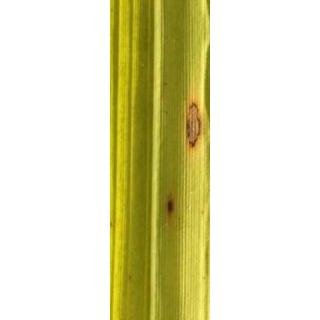bercak-Cokelat: (181, 98, 207, 155), (160, 194, 180, 226)
